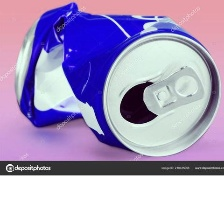can: (13, 0, 222, 159)
